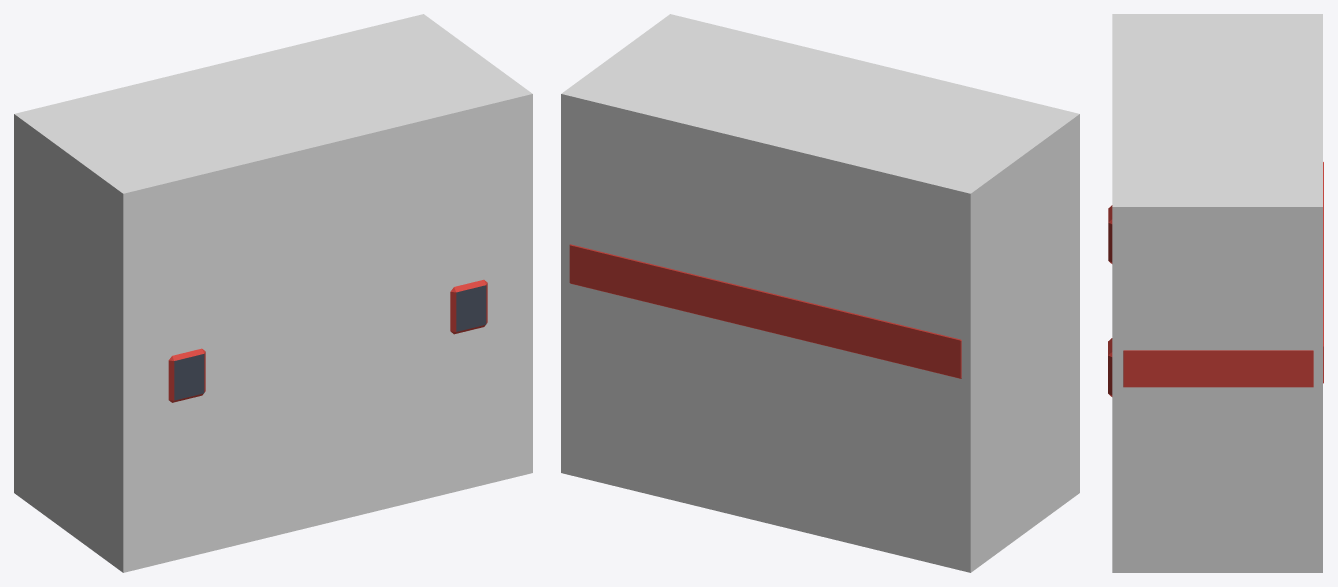
File: prop_toolbox_a.glb
3 renders of one model, left to right at view 1: azimuth 30°, elevation 25°; view 2: azimuth 150°, elevation 25°; view 3: azimuth 270°, elevation 25°, orthographic. The views are drawn at different scales.
Visible parts, largest first — view 1: COL_prop_toolbox_a_1, prop_toolbox_a; view 2: COL_prop_toolbox_a_1, prop_toolbox_a; view 3: COL_prop_toolbox_a_1, prop_toolbox_a.
Boxes of the visible parts, left/top/right/bottom form: COL_prop_toolbox_a_1: left=14, top=14, right=532, bottom=572; prop_toolbox_a: left=168, top=279, right=487, bottom=402; COL_prop_toolbox_a_1: left=561, top=14, right=1079, bottom=572; prop_toolbox_a: left=569, top=244, right=961, bottom=378; COL_prop_toolbox_a_1: left=1112, top=14, right=1322, bottom=572; prop_toolbox_a: left=1108, top=162, right=1323, bottom=396.
Size of the model in its own units: 0.5203 by 0.46 by 0.2457.
